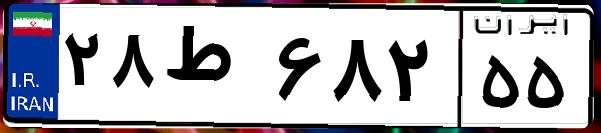2: (385, 28, 445, 110), (57, 26, 110, 100)
5: (475, 38, 525, 113), (525, 38, 570, 115)
6: (270, 28, 330, 110)
8: (330, 28, 385, 110), (110, 28, 158, 98)
ط: (158, 20, 270, 120)
